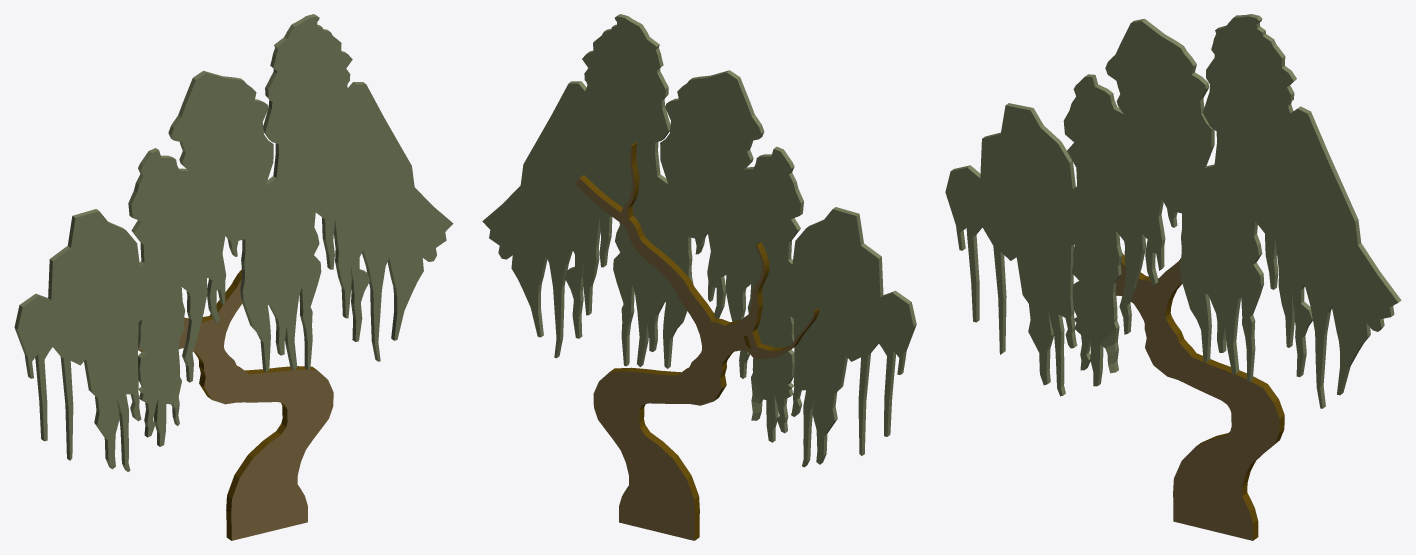
The model's file is Tree_2.fbx.
The picture shows the model from 3 angles, left to right: view 1: azimuth 30°, elevation 25°; view 2: azimuth 150°, elevation 25°; view 3: azimuth 330°, elevation 25°; orthographic projection. The views are drawn at different scales.
Parts seen in each view (by area): view 1: pPlane48, pPlane47; view 2: pPlane48, pPlane47; view 3: pPlane48, pPlane47.
Part boxes in pixels (x1=…): pPlane48: x1=14, y1=14, x2=453, y2=471; pPlane47: x1=138, y1=269, x2=333, y2=540; pPlane48: x1=482, y1=14, x2=916, y2=467; pPlane47: x1=575, y1=142, x2=819, y2=540; pPlane48: x1=945, y1=14, x2=1401, y2=408; pPlane47: x1=1115, y1=253, x2=1284, y2=540.
Size of the model in its own units: 2.08 by 2.31 by 0.0714.
